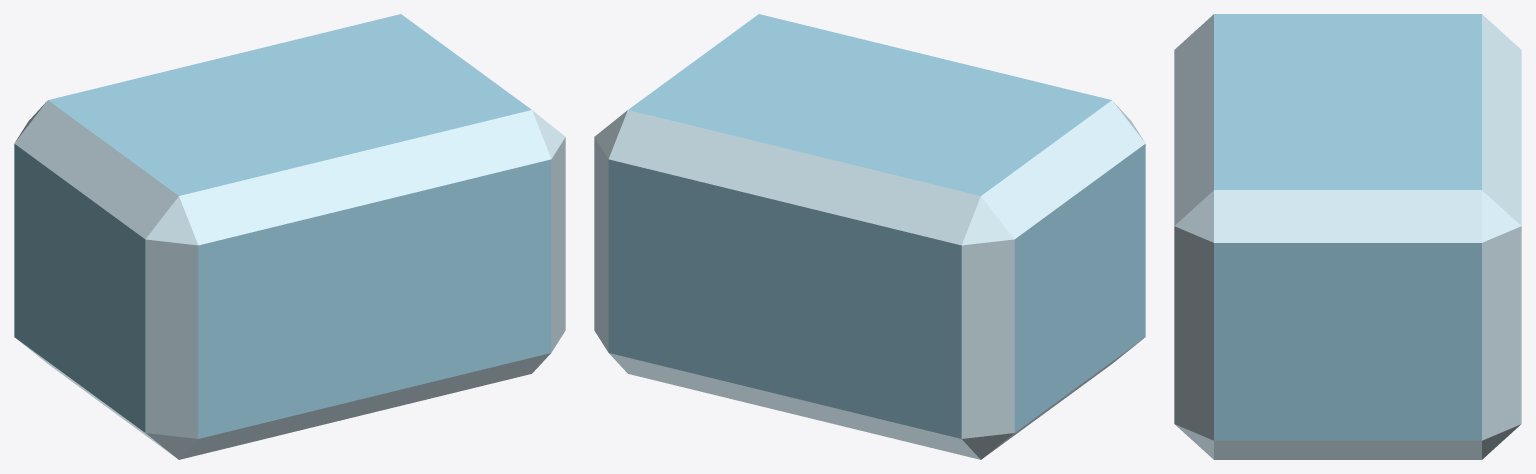
File: ice-block.glb
3 views of the same model, side by side, from view 1: azimuth 30°, elevation 25°; view 2: azimuth 150°, elevation 25°; view 3: azimuth 270°, elevation 25° (orthographic). The views are drawn at different scales.
Parts seen in each view (by area): view 1: ice-block; view 2: ice-block; view 3: ice-block.
Part boxes in pixels (bbox=[...]): ice-block: bbox=[14, 14, 565, 459]; ice-block: bbox=[594, 14, 1145, 459]; ice-block: bbox=[1174, 14, 1521, 459].
Bounding box in the file's own units: 0.2 × 0.12 × 0.14.
